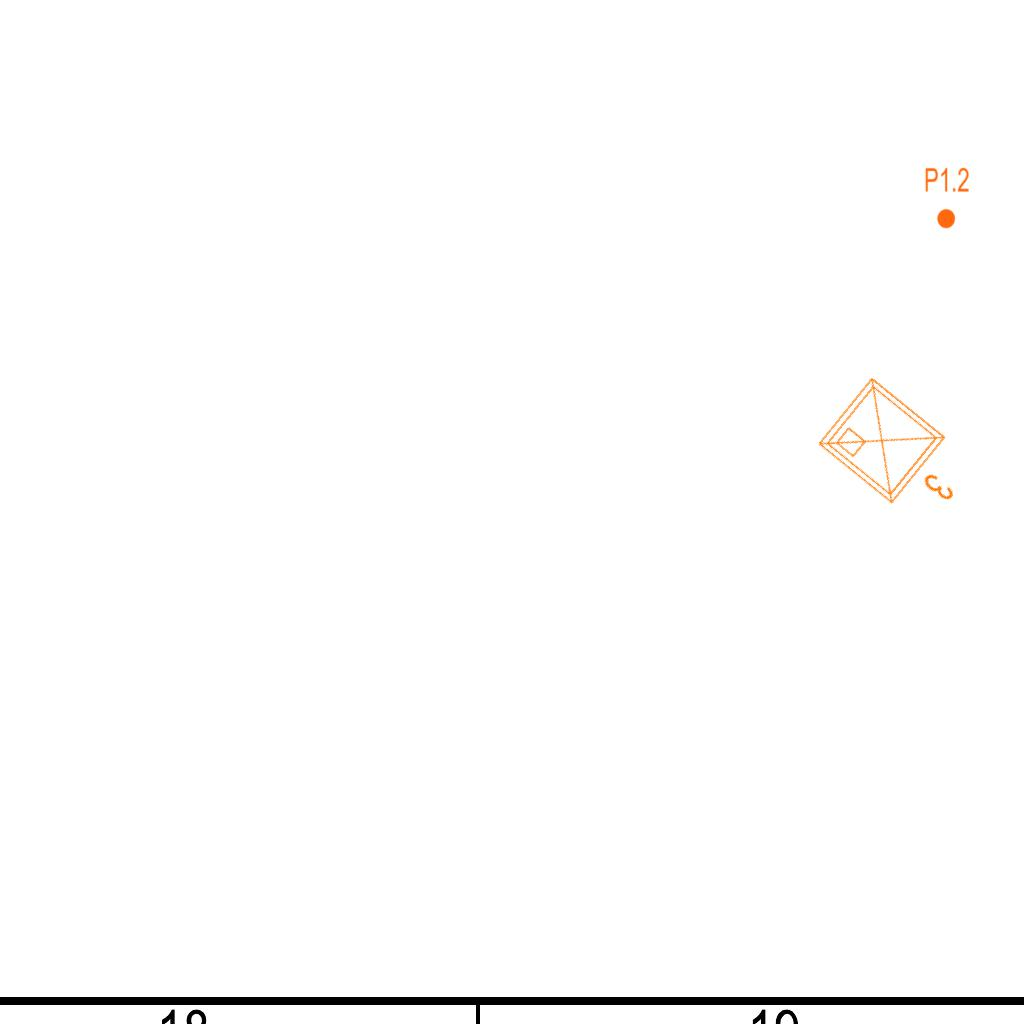Downlight_LED_Einbauleuchten_Flur: (924, 166, 970, 230)
Einbaudownlights_LED_Konferenzraeume: (807, 364, 991, 540)
